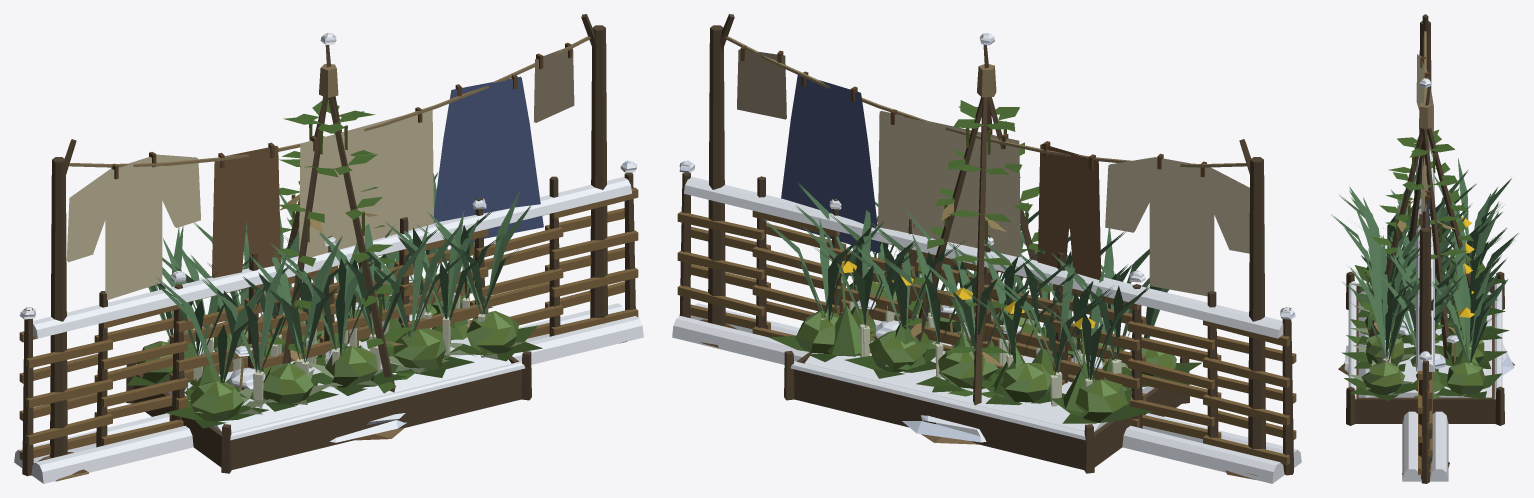
File: fuellung_garten.glb
The picture shows the model from 3 angles, left to right: view 1: azimuth 30°, elevation 25°; view 2: azimuth 150°, elevation 25°; view 3: azimuth 270°, elevation 25°; orthographic projection. The views are drawn at different scales.
Visible parts, largest first — view 1: Waescheleine, Flechtzaun4, BeetKohl, Flechtzaun4_Winter, BeetLauch, BeetLauch_Winter, Bohnenstange, BeetKohl_Winter, Flechtzaun2, BeetKraut, Flechtzaun2_Winter, Bohnenstange_Winter; view 2: Waescheleine, Flechtzaun4, BeetKohl, Flechtzaun4_Winter, BeetLauch, BeetLauch_Winter, Bohnenstange, BeetKohl_Winter, Flechtzaun2, BeetKraut, Bohnenstange_Winter, Flechtzaun2_Winter; view 3: BeetKohl, BeetLauch_Winter, BeetLauch, Bohnenstange, Flechtzaun4_Winter, Waescheleine, BeetKohl_Winter, BeetKraut, Flechtzaun4, Bohnenstange_Winter.
Part boxes in pixels (box(x1,y1,x2,y2)): Waescheleine: box(31, 14, 626, 481); Flechtzaun4: box(19, 172, 638, 476); BeetKohl: box(126, 274, 542, 473); Flechtzaun4_Winter: box(14, 160, 643, 483); BeetLauch: box(148, 172, 531, 408); BeetLauch_Winter: box(150, 173, 519, 400); Bohnenstange: box(260, 45, 415, 440); BeetKohl_Winter: box(168, 313, 525, 440); Flechtzaun2: box(169, 229, 488, 421); BeetKraut: box(183, 267, 524, 414); Flechtzaun2_Winter: box(170, 198, 486, 301); Bohnenstange_Winter: box(258, 33, 406, 442); Waescheleine: box(700, 14, 1284, 479); Flechtzaun4: box(677, 172, 1296, 475); BeetKohl: box(769, 281, 1202, 473); Flechtzaun4_Winter: box(672, 160, 1301, 483); BeetLauch: box(762, 205, 1169, 404); BeetLauch_Winter: box(785, 182, 1165, 406); Bohnenstange: box(904, 43, 1073, 444); BeetKohl_Winter: box(790, 319, 1154, 440); Flechtzaun2: box(829, 209, 1146, 428); BeetKraut: box(828, 260, 1131, 412); Bohnenstange_Winter: box(902, 33, 1032, 442); Flechtzaun2_Winter: box(829, 199, 1145, 292); BeetKohl: box(1341, 256, 1509, 425); BeetLauch_Winter: box(1349, 158, 1514, 364); BeetLauch: box(1331, 164, 1518, 362); Bohnenstange: box(1338, 86, 1514, 375); Flechtzaun4_Winter: box(1402, 128, 1448, 481); Waescheleine: box(1402, 14, 1449, 479); BeetKohl_Winter: box(1348, 281, 1502, 399); BeetKraut: box(1346, 217, 1478, 399); Flechtzaun4: box(1418, 360, 1432, 483); Bohnenstange_Winter: box(1344, 78, 1514, 375).
Bounding box in the file's own units: 4.1 × 2.34 × 1.39.
